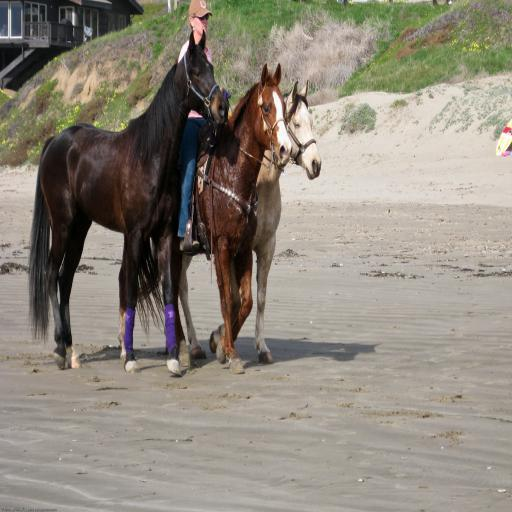horse: (26, 28, 230, 380), (136, 60, 292, 374), (178, 78, 324, 364)
